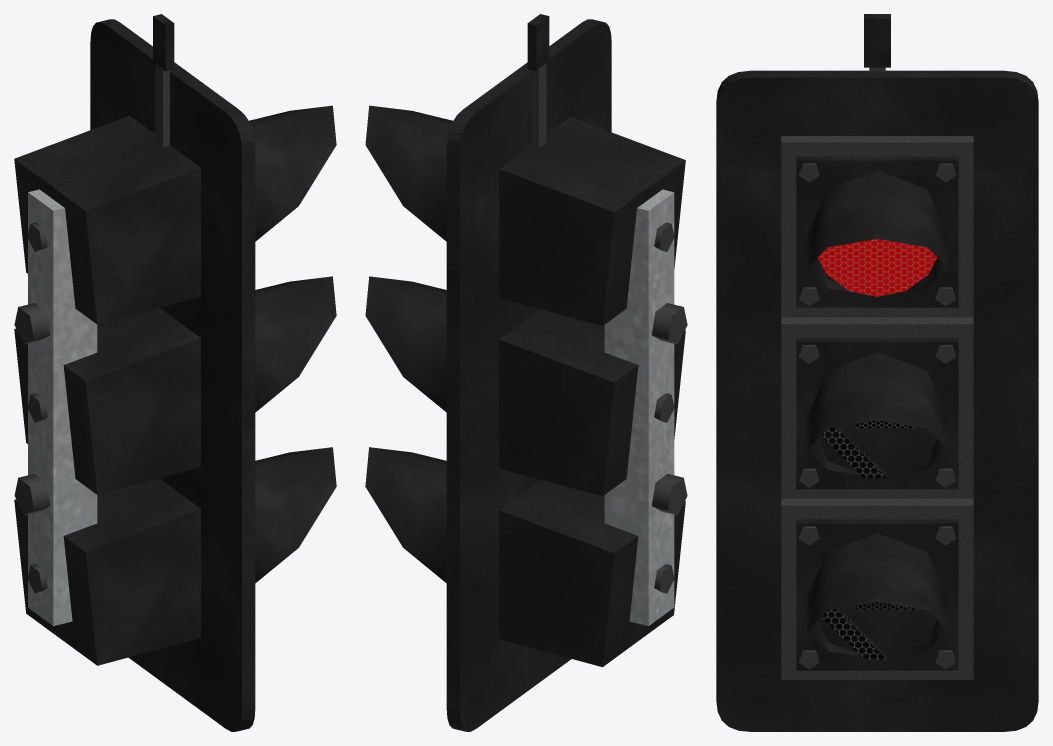
The model's file is GSDTrafficLightLeft.FBX.
3 views of the same model, side by side, from view 1: azimuth 30°, elevation 25°; view 2: azimuth 150°, elevation 25°; view 3: azimuth 270°, elevation 25° (orthographic). The views are drawn at different scales.
Parts seen in each view (by area): view 1: LightBase; view 2: LightBase; view 3: LightBase, Lights.
Part boxes in pixels (bbox=[...]): LightBase: bbox=[14, 14, 336, 731]; LightBase: bbox=[365, 14, 687, 731]; LightBase: bbox=[716, 14, 1038, 731]; Lights: bbox=[817, 239, 937, 659].
Bounding box in the file's own units: 0.7001 × 0.596 × 1.44.
